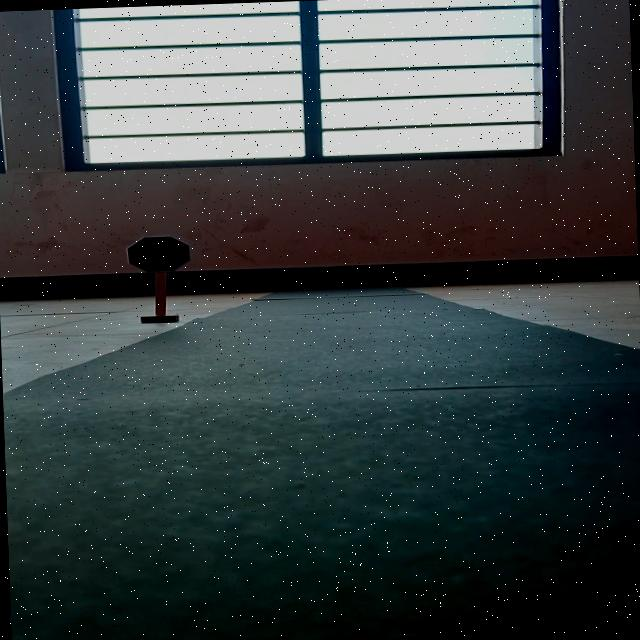Stop: (126, 234, 192, 273)
